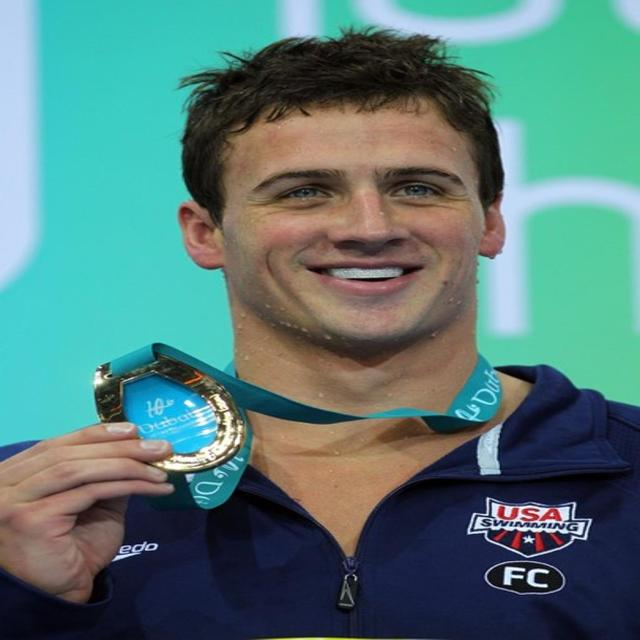Face: (174, 57, 507, 349)
